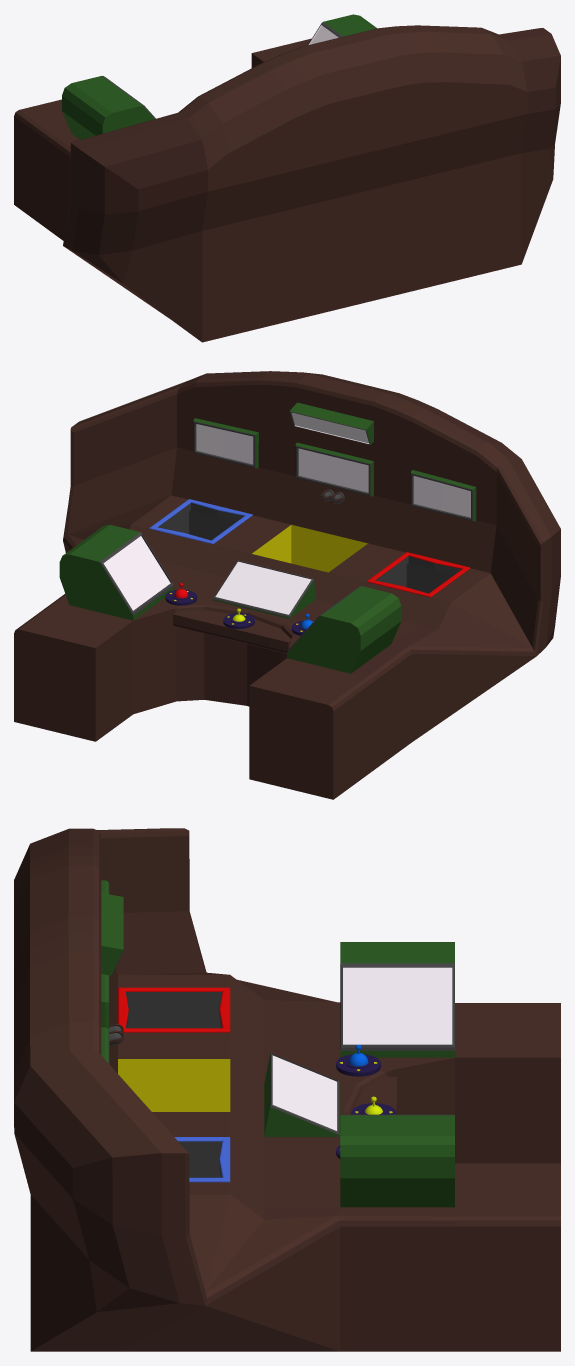
The model's file is KONSOL Inuk.fbx.
The picture shows the model from 3 angles, top to bottom: view 1: azimuth 30°, elevation 25°; view 2: azimuth 150°, elevation 25°; view 3: azimuth 270°, elevation 25°; orthographic projection. The views are drawn at different scales.
Parts seen in each view (by area): view 1: Cube; view 2: Cube; view 3: Cube, Circle.002.
Boxes of the visible parts, box(x1,y1,x2,y2) form: Cube: box(14, 14, 560, 342); Cube: box(14, 371, 560, 799); Cube: box(14, 828, 560, 1351); Circle.002: box(336, 1054, 380, 1076).
Size of the model in its own units: 3561 by 1790 by 2526.
